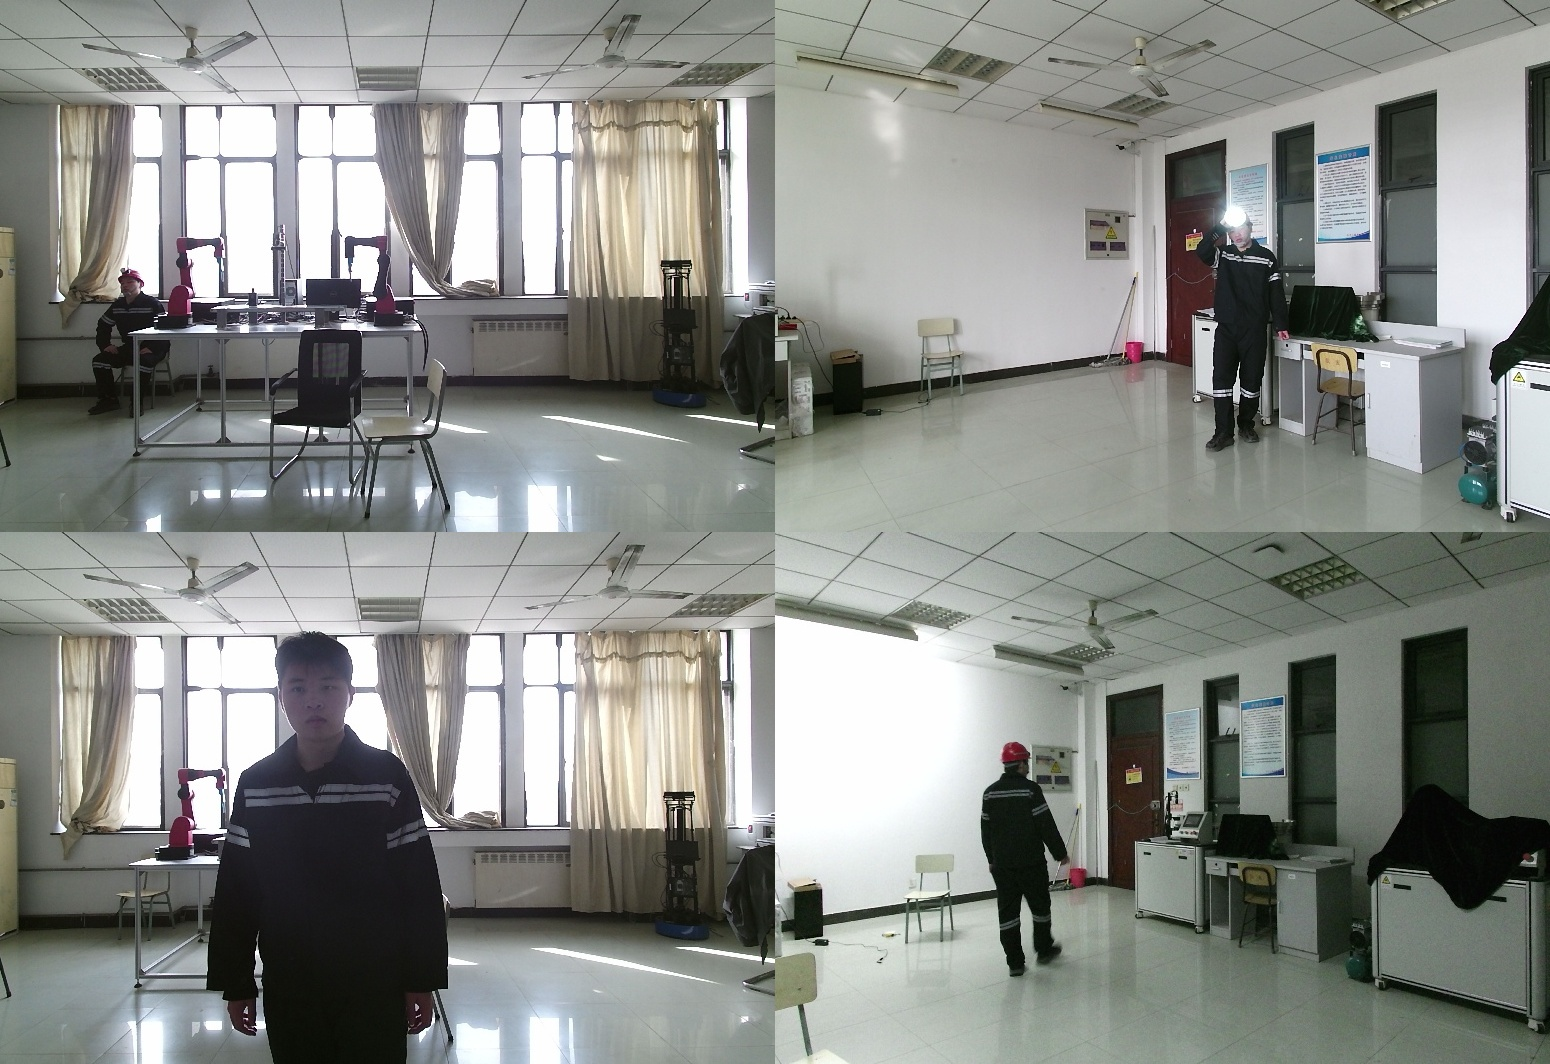person: (220, 632, 459, 1064), (1201, 207, 1296, 455), (972, 743, 1072, 975), (80, 270, 179, 415)
